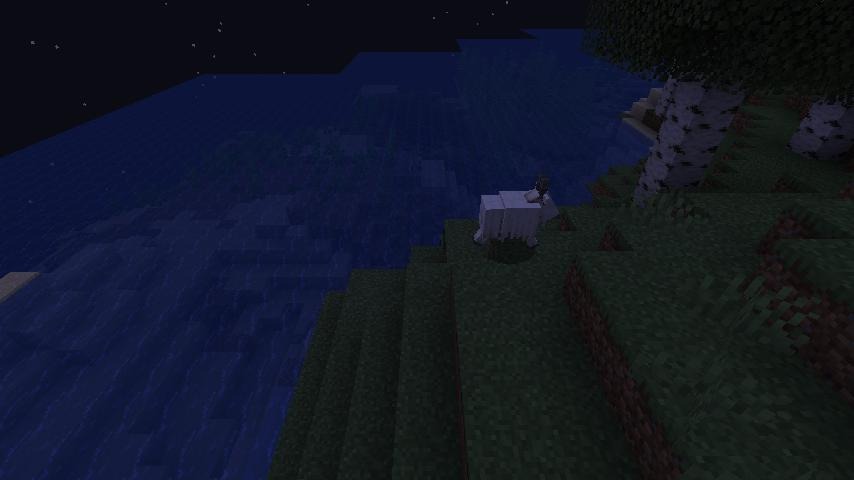goat: (471, 174, 560, 250)
